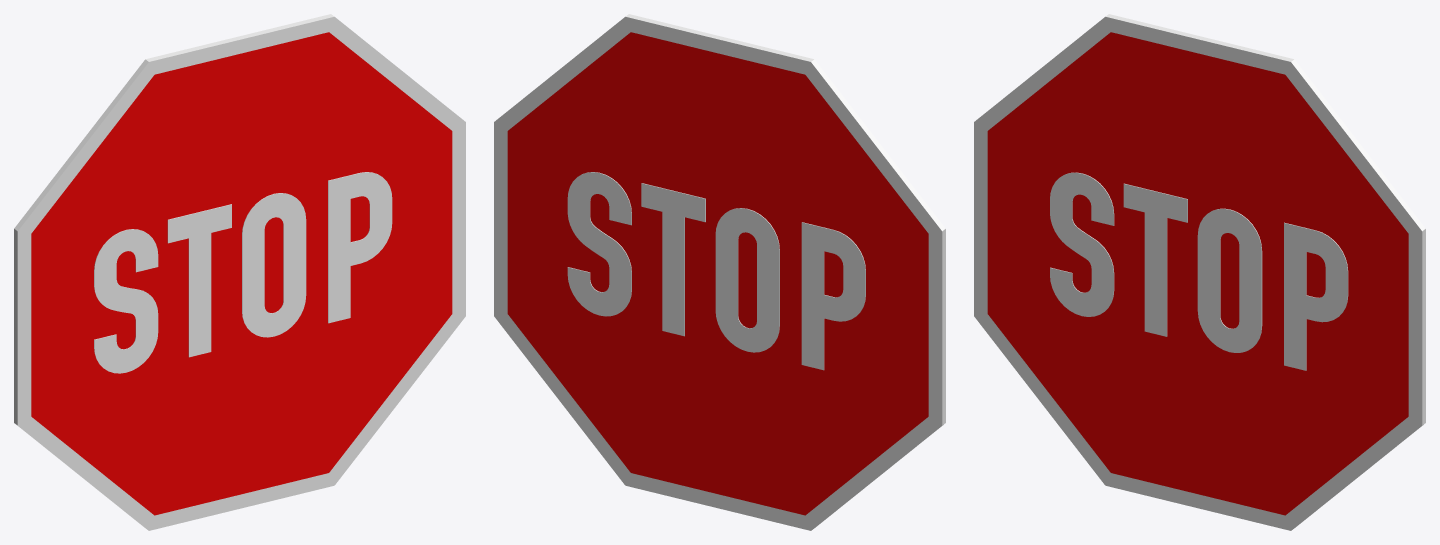
Rendered from r.122_dunglai.glb.
The picture shows the model from 3 angles, left to right: view 1: azimuth 30°, elevation 25°; view 2: azimuth 150°, elevation 25°; view 3: azimuth 330°, elevation 25°; orthographic projection.
Parts seen in each view (by area): view 1: Solid13, Solid12, Solid14; view 2: Solid13, Solid12, Solid15; view 3: Solid13, Solid12, Solid14.
Boxes of the visible parts, x1,y1,x2,y2 form: Solid13: (31, 32, 452, 515); Solid12: (14, 14, 465, 530); Solid14: (94, 172, 392, 373); Solid13: (507, 32, 928, 515); Solid12: (494, 14, 945, 530); Solid15: (567, 172, 865, 370); Solid13: (987, 32, 1408, 515); Solid12: (974, 14, 1425, 530); Solid14: (1050, 172, 1348, 370).
Bounding box in the file's own units: 0.7 × 0.7 × 0.012.
